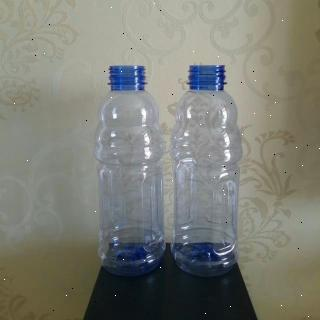Plastic-bottle: (88, 65, 172, 282), (167, 62, 245, 279)
